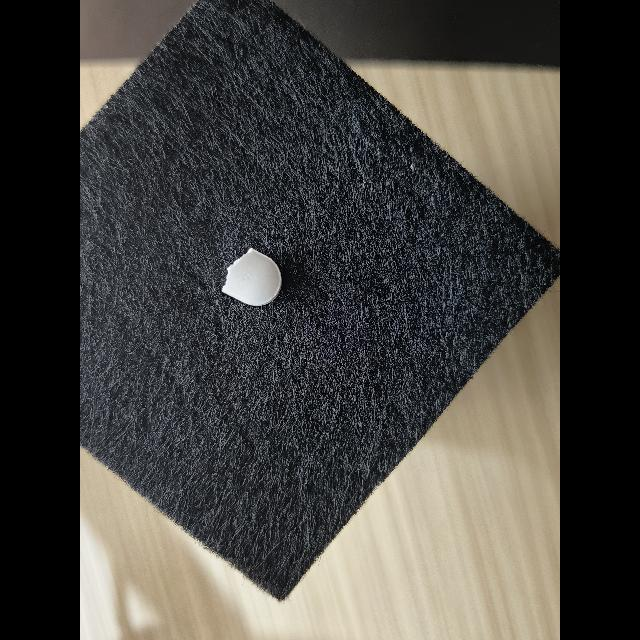Chipped Pill: (222, 248, 282, 306)
